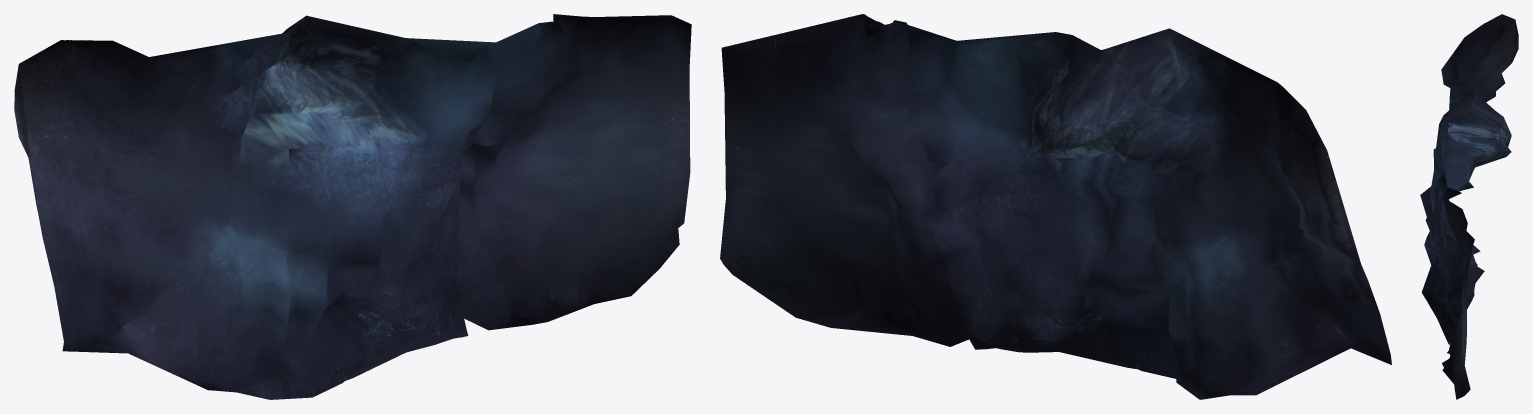
The model's file is 3dRec_LOD3.obj.
3 views of the same model, side by side, from view 1: azimuth 30°, elevation 25°; view 2: azimuth 150°, elevation 25°; view 3: azimuth 270°, elevation 25° (orthographic). The views are drawn at different scales.
Size of the model in its own units: 25.26 by 13.6 by 5.4.
Materials: 1 (1 with a texture image).
